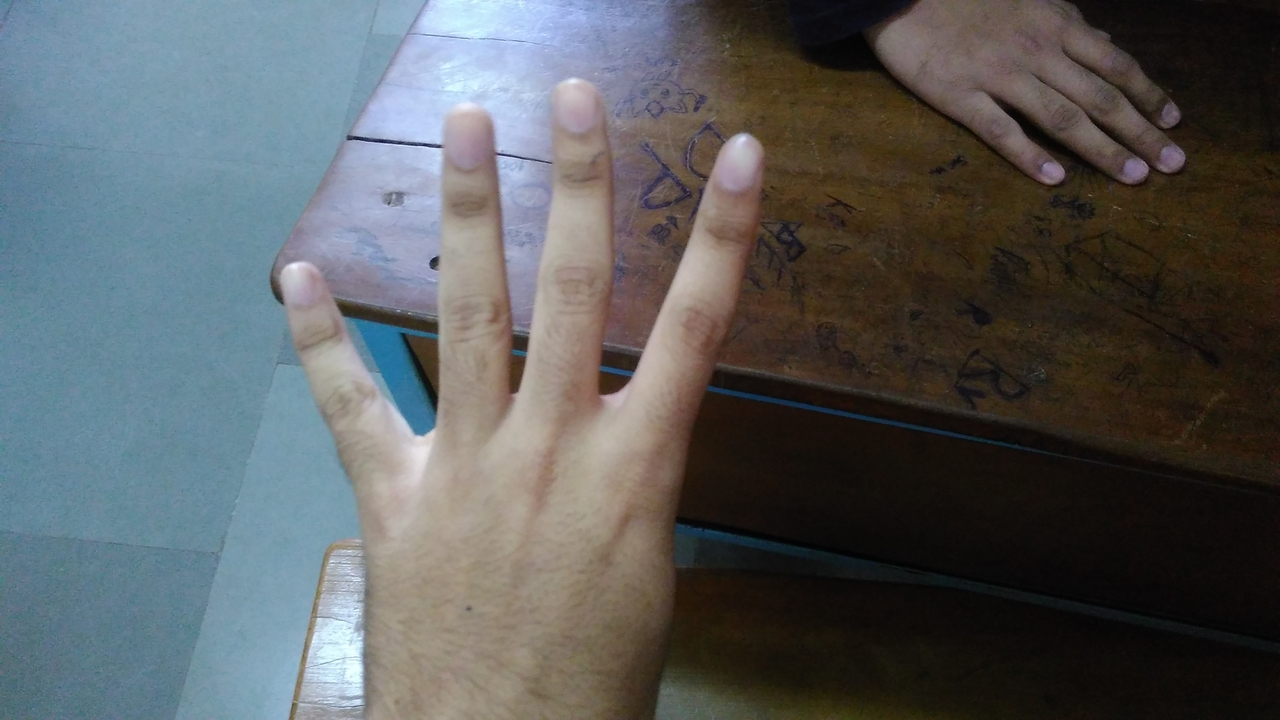fingertip: (260, 254, 334, 320), (708, 124, 774, 194), (436, 94, 498, 156), (546, 78, 610, 132)
